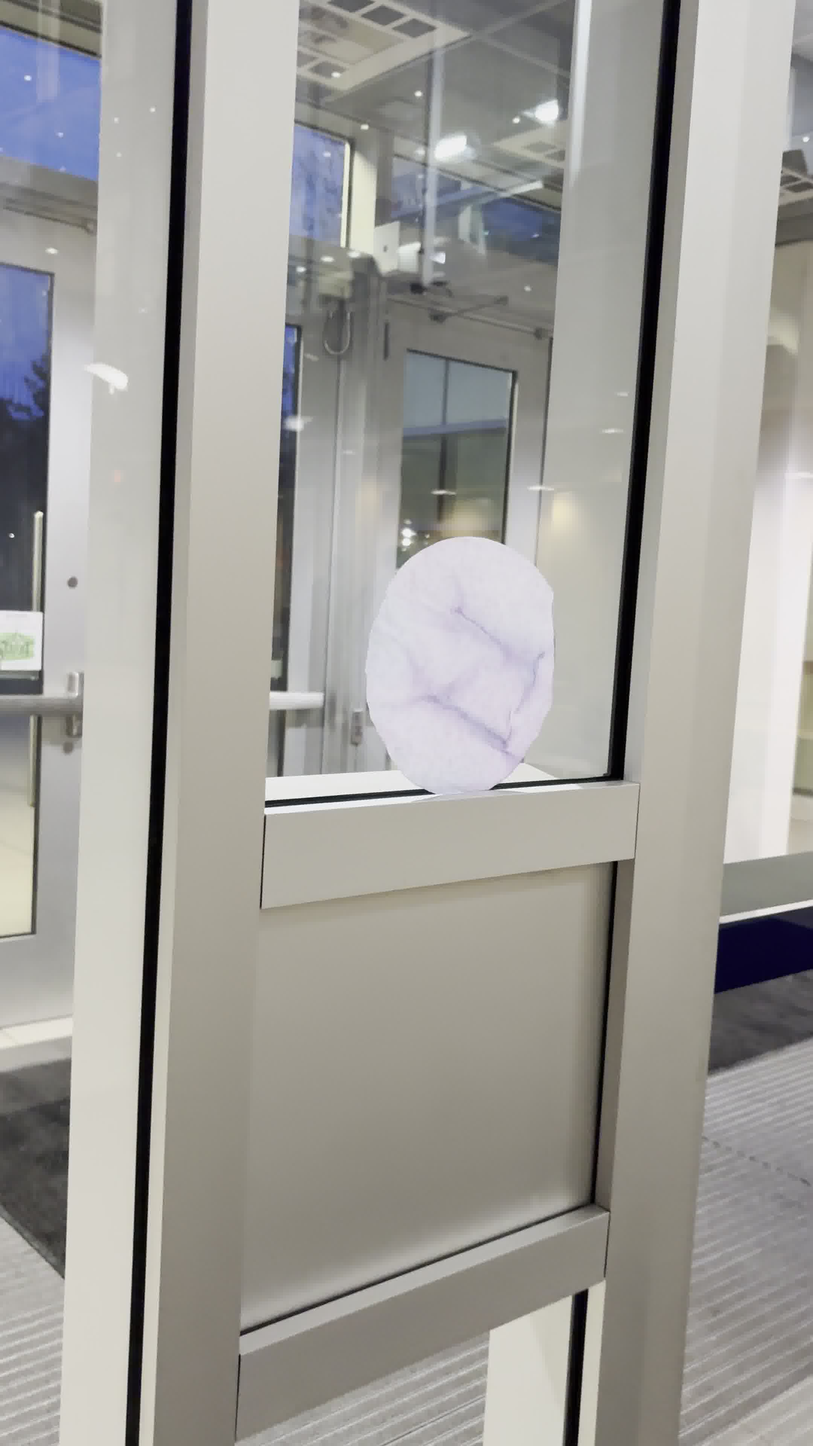Target: (364, 537, 556, 793)
